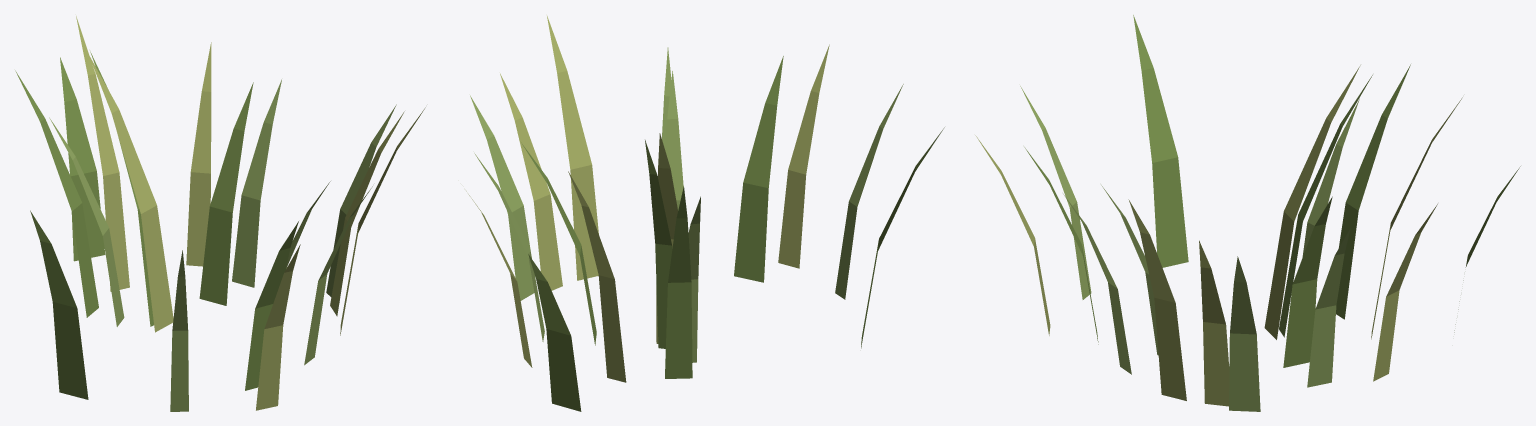
The model's file is SM_WL_NG_GrassMedium.fbx.
3 renders of one model, left to right at view 1: azimuth 30°, elevation 25°; view 2: azimuth 150°, elevation 25°; view 3: azimuth 270°, elevation 25°, orthographic.
Visible parts, largest first — view 1: HH_Q2_GrassMedium; view 2: HH_Q2_GrassMedium; view 3: HH_Q2_GrassMedium.
Boxes of the visible parts, x1,y1,x2,y2 form: HH_Q2_GrassMedium: [15, 16, 425, 411]; HH_Q2_GrassMedium: [466, 16, 944, 411]; HH_Q2_GrassMedium: [975, 15, 1520, 411].
Size of the model in its own units: 0.7368 by 0.6607 by 0.3775.
